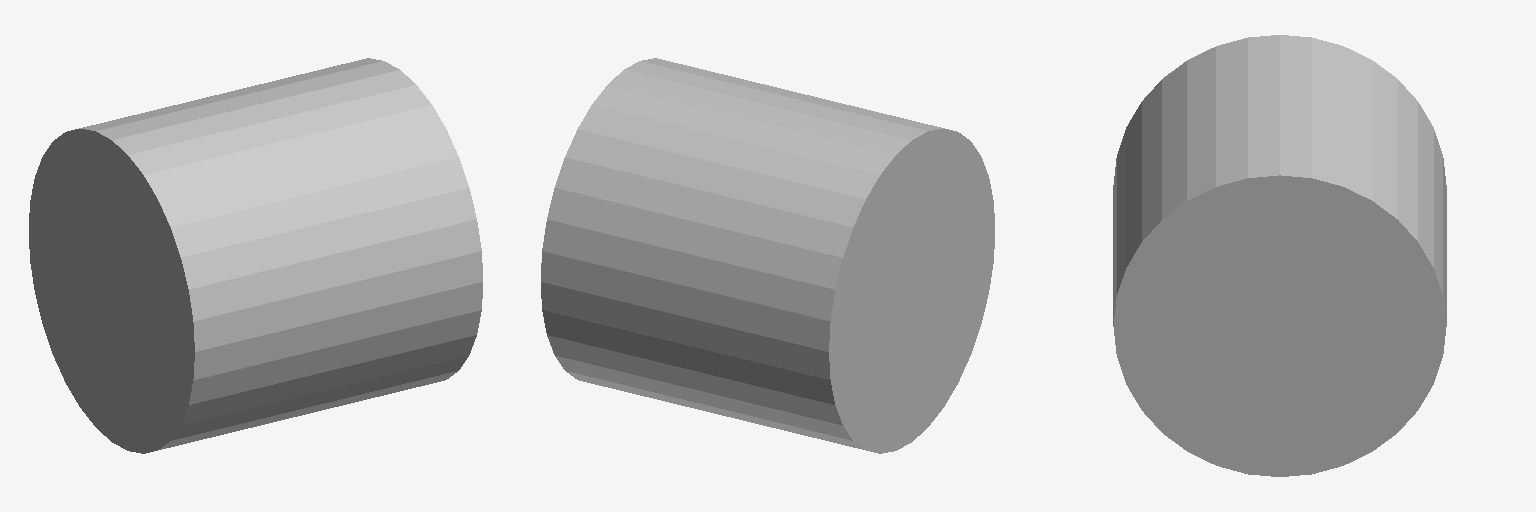
Rendered from cylinderX.obj.
The picture shows the model from 3 angles: view 1: azimuth 30°, elevation 25°; view 2: azimuth 150°, elevation 25°; view 3: azimuth 270°, elevation 25°; orthographic projection.
Size of the model in its own units: 2 by 2 by 2.